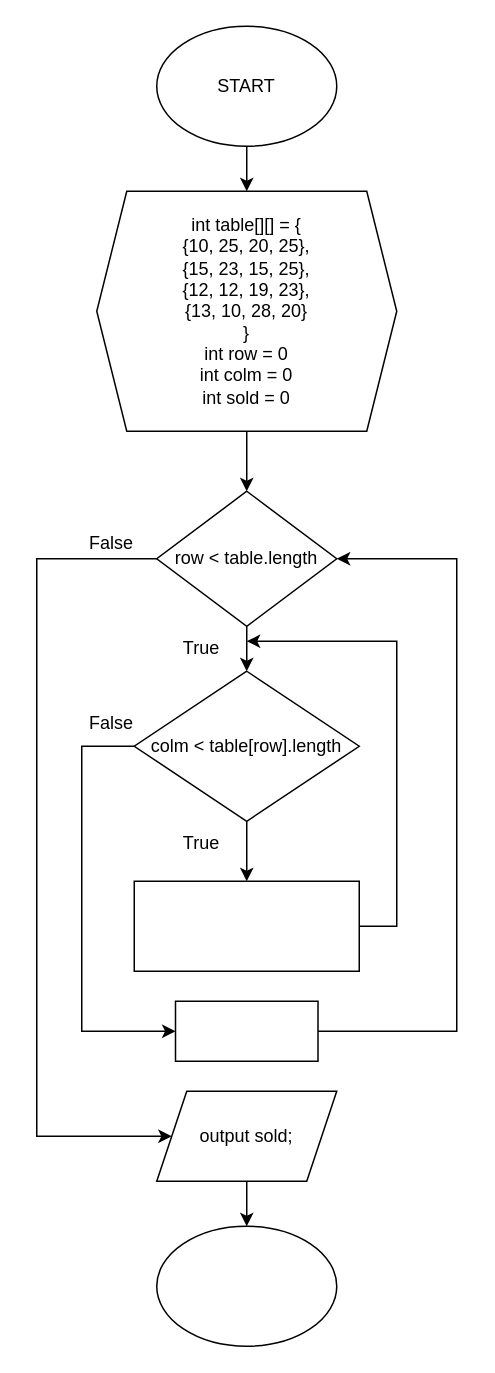
The diagram is 495 pixels wide and 1373 high, and some of its shapes have lost their labels. Here are the shapes that lost their labels. From the top down, the centre of each, then its label:
(x=246, y=925): sold += table[row][colm]; colm++;
(x=246, y=1030): row++;
(x=246, y=1285): END
